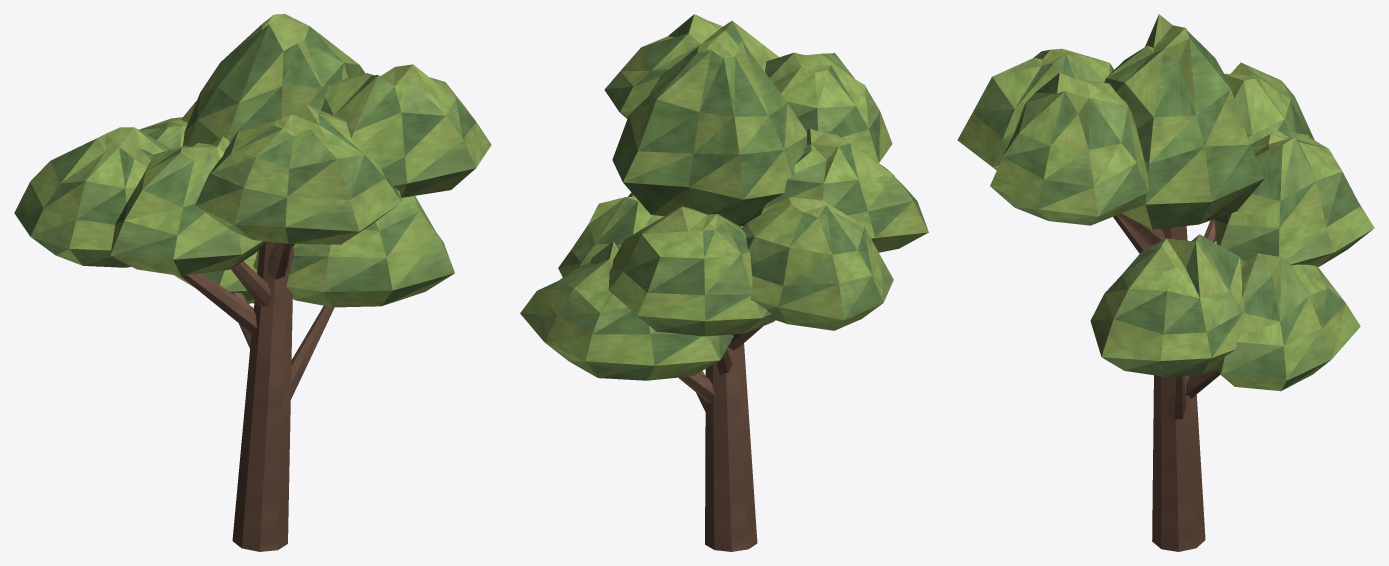
Rendered from tree_small_sapling_01.fbx.
The picture shows the model from 3 angles, left to right: view 1: azimuth 30°, elevation 25°; view 2: azimuth 150°, elevation 25°; view 3: azimuth 270°, elevation 25°; orthographic projection. The views are drawn at different scales.
Parts seen in each view (by area): view 1: tree_small_sapling_01; view 2: tree_small_sapling_01; view 3: tree_small_sapling_01.
Part boxes in pixels (x1,y1,x2,y2): tree_small_sapling_01: (14, 14, 491, 551); tree_small_sapling_01: (520, 14, 928, 551); tree_small_sapling_01: (957, 14, 1374, 551).
Bounding box in the file's own units: 147 × 200 × 144.
Materials: 1 (1 with a texture image).
